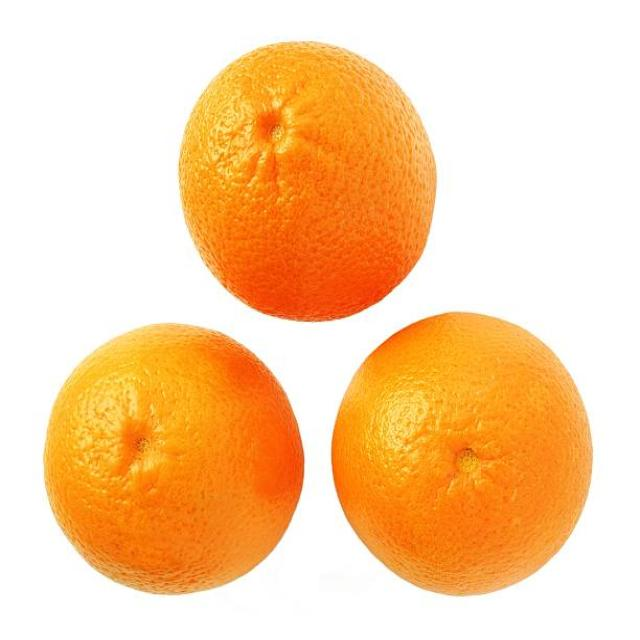Ripe: (35, 316, 310, 600), (326, 307, 596, 592), (176, 38, 439, 316)
